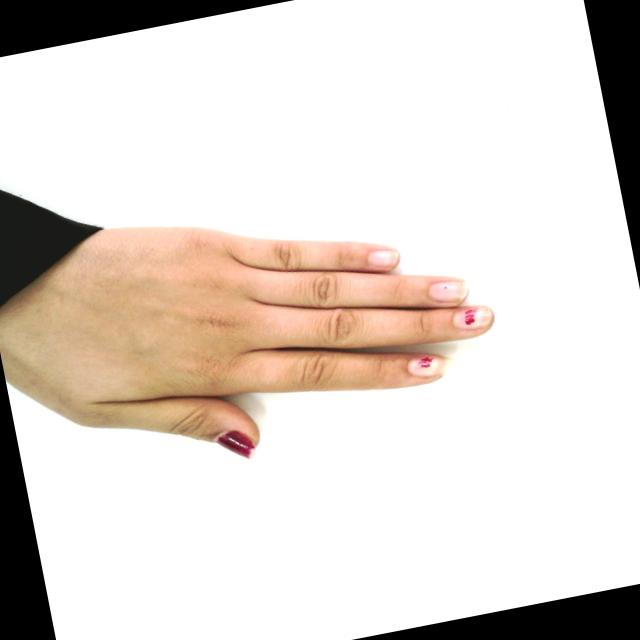Nail: (216, 430, 254, 458), (454, 305, 494, 328), (429, 279, 468, 301), (408, 354, 446, 376), (368, 248, 399, 266)
